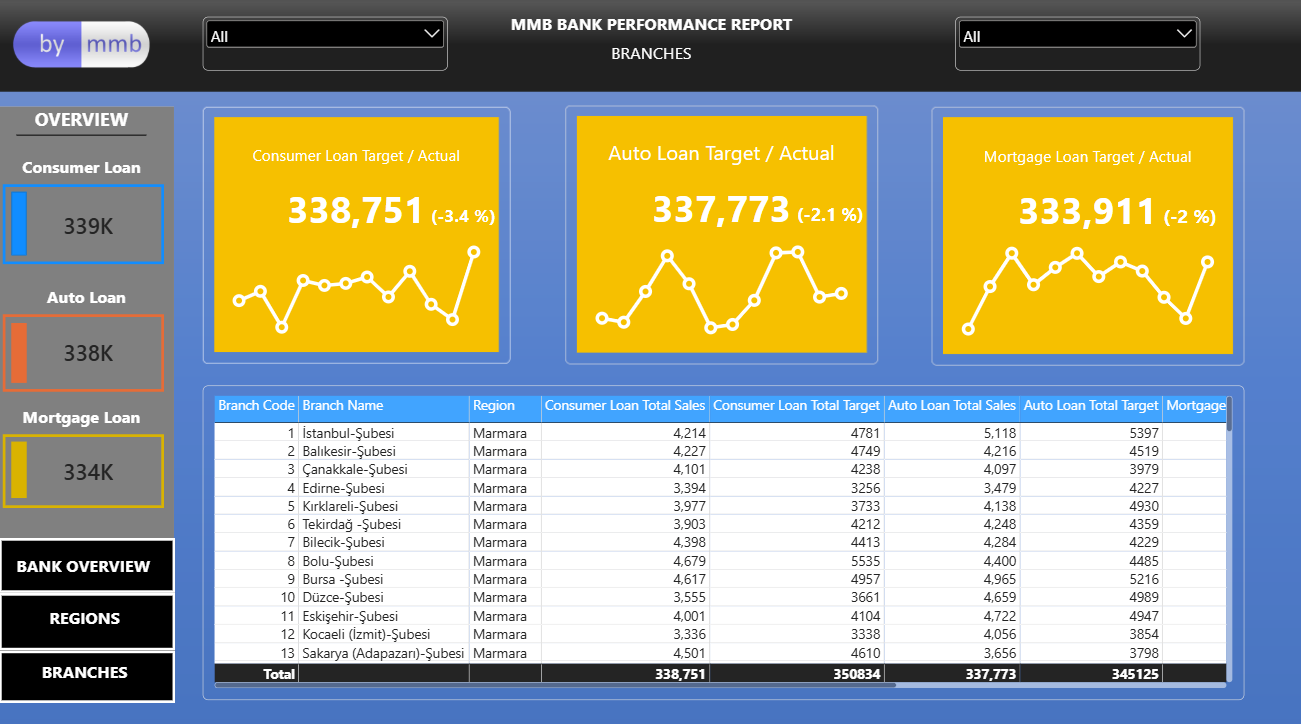

The page's visual inventory and layout, read from the dashboard file:
{"tool":"powerbi","page":{"name":"BRANCHES","canvas":[1920,1080],"ordinal":2},"visuals":[{"type":"textbox","box":[752.9,64.7,415.7,41.2],"z":1000},{"type":"shape","box":[0,160.1,257.7,877.9],"z":2000},{"type":"textbox","box":[25.8,159.4,191.4,42.3],"z":3000},{"type":"shape","box":[25.8,172.3,191.4,58],"z":4000},{"type":"shape","box":[5.5,274.2,237.4,117.8],"z":5000},{"type":"textbox","box":[25.8,231.2,191.4,42.3],"z":6000},{"type":"shape","box":[18.4,285.3,22.1,93.9],"z":7000},{"type":"shape","box":[5.5,465.6,237.4,114.1],"z":8000},{"type":"textbox","box":[33.1,423.3,191.4,42.3],"z":9000},{"type":"shape","box":[18.4,478.5,22.1,88.3],"z":10000},{"type":"shape","box":[5.5,642.3,237.4,108.6],"z":11000},{"type":"shape","box":[18.4,653.4,22.1,82.8],"z":12000},{"type":"textbox","box":[25.8,600,191.4,42.3],"z":13000},{"type":"shape","box":[0,795.1,259.5,81],"z":13002},{"type":"shape","box":[0,876.1,259.5,84.7],"z":13003},{"type":"shape","box":[0,960.7,259.5,77.3],"z":13004},{"type":"textbox","box":[12.9,819,222.7,46],"z":13005},{"type":"textbox","box":[14.7,896.3,222.7,46],"z":13006},{"type":"textbox","box":[14.7,975.5,222.7,46],"z":13007},{"type":"cardVisual","fields":{"Data":["Olculer.Tuketici Kredisi Toplam Satisi"]},"box":[46,285.3,171.2,97.5],"z":13008},{"type":"cardVisual","fields":{"Data":["Olculer.Otomobil Kredisi Toplam Satisi"]},"box":[46,473,171.2,97.5],"z":13009},{"type":"cardVisual","fields":{"Data":["Olculer.Konut Kredisi Toplam Satisi"]},"box":[46,647.9,171.2,97.5],"z":13010},{"type":"slicer","fields":{"Values":["Sube_listesi.Bolgesi"]},"box":[300,27.6,360.7,79.1],"z":13011},{"type":"slicer","fields":{"Values":["Sube_listesi.Sube Adı"]},"box":[1407.9,26.8,360.7,79.1],"z":13012},{"type":"KPIStatusWithHistory1446562283967","fields":{"Values":["Olculer.Tuketici Kredisi Toplam Satisi"],"Targets":["Olculer.Tuketici Kredisi Toplam Hedef"],"Category":["Krediler.Ay"]},"box":[300.5,160.5,452.8,378.7],"z":13013},{"type":"KPIStatusWithHistory1446562283967","fields":{"Values":["Olculer.Otomobil Kredisi Toplam Satisi"],"Targets":["Olculer.Otomobil Kredisi Toplam Hedef"],"Category":["Krediler.Ay"]},"box":[833.6,158.5,461.1,380.8],"z":13014},{"type":"KPIStatusWithHistory1446562283967","fields":{"Values":["Olculer.Konut Kredisi Toplam Satisi"],"Targets":["Olculer.Konut Kredisi Toplam Hedef"],"Category":["Krediler.Ay"]},"box":[1372.9,160.5,461.1,380.8],"z":13015},{"type":"tableEx","fields":{"Values":["Sube_listesi.Sube Kodu","Sube_listesi.Sube Adı","Sube_listesi.Bolgesi","Olculer.Tuketici Kredisi Toplam Satisi","Olculer.Tuketici Kredisi Toplam Hedef","Olculer.Otomobil Kredisi Toplam Satisi","Olculer.Otomobil Kredisi Toplam Hedef","Olculer.Konut Kredisi Toplam Satisi","Olculer.Konut Kredisi Toplam Hedef","Olculer.Toplam Kredi Satisi","Olculer.Toplam Kredi Hedefi"]},"box":[300.5,570.2,1533.5,463.1],"z":13016},{"type":"textbox","box":[752.8,22.1,416,42.3],"z":13017}]}

Visuals, with their boxes in screenshot pixels (x1, y1, x2, y2), scaled from the page's 1920x1080 canvas onto the 1301x724 screenshot:
textbox: 510/43/792/71
shape: 0/107/175/696
textbox: 17/107/147/135
shape: 17/116/147/154
shape: 4/184/165/263
textbox: 17/155/147/183
shape: 12/191/27/254
shape: 4/312/165/389
textbox: 22/284/152/312
shape: 12/321/27/380
shape: 4/431/165/503
shape: 12/438/27/494
textbox: 17/402/147/431
shape: 0/533/176/587
shape: 0/587/176/644
shape: 0/644/176/696
textbox: 9/549/160/580
textbox: 10/601/161/632
textbox: 10/654/161/685
cardVisual - Olculer.Tuketici Kredisi Toplam Satisi: 31/191/147/257
cardVisual - Olculer.Otomobil Kredisi Toplam Satisi: 31/317/147/382
cardVisual - Olculer.Konut Kredisi Toplam Satisi: 31/434/147/500
slicer - Sube_listesi.Bolgesi: 203/19/448/72
slicer - Sube_listesi.Sube Adı: 954/18/1198/71
KPIStatusWithHistory1446562283967 - Olculer.Tuketici Kredisi Toplam Satisi x Olculer.Tuketici Kredisi Toplam Hedef: 204/108/510/361
KPIStatusWithHistory1446562283967 - Olculer.Otomobil Kredisi Toplam Satisi x Olculer.Otomobil Kredisi Toplam Hedef: 565/106/877/362
KPIStatusWithHistory1446562283967 - Olculer.Konut Kredisi Toplam Satisi x Olculer.Konut Kredisi Toplam Hedef: 930/108/1243/363
tableEx - Sube_listesi.Sube Kodu x Sube_listesi.Sube Adı: 204/382/1243/693
textbox: 510/15/792/43
